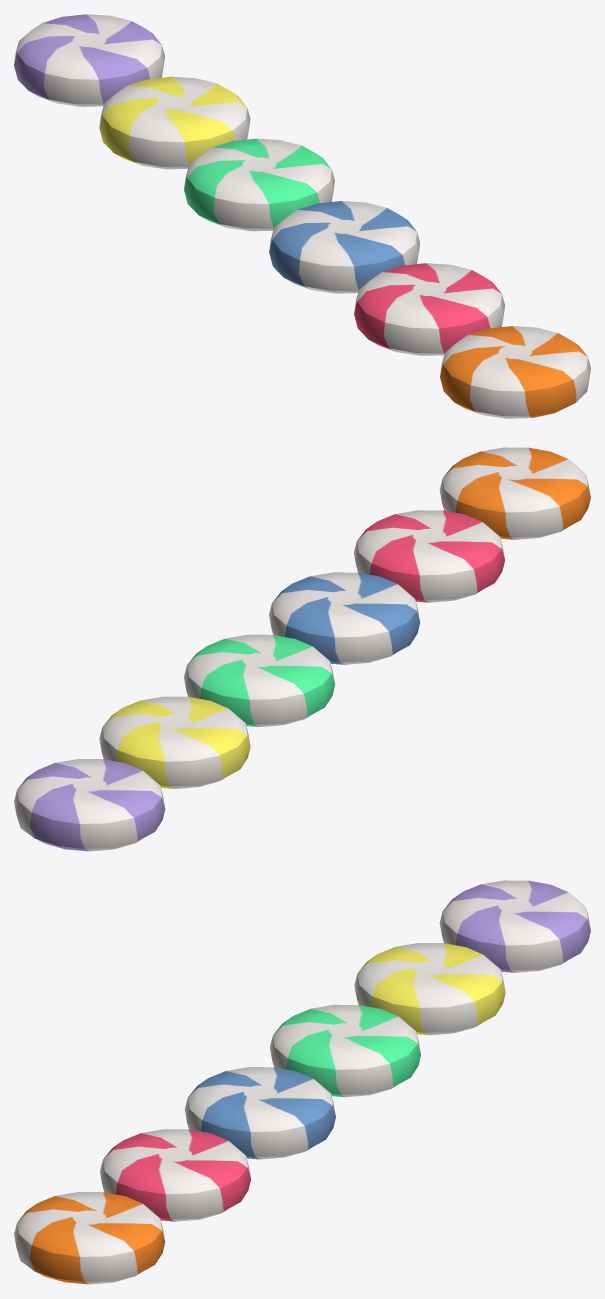
File: goods_sweets.gltf
3 renders of one model, top to bottom at view 1: azimuth 30°, elevation 25°; view 2: azimuth 150°, elevation 25°; view 3: azimuth 330°, elevation 25°, orthographic.
Parts seen in each view (by area): view 1: Candy_v1_geo, Candy_v2_geo, Candy_v6_geo, Candy_v4_geo, Candy_v3_geo, Candy_v5_geo; view 2: Candy_v6_geo, Candy_v1_geo, Candy_v5_geo, Candy_v3_geo, Candy_v2_geo, Candy_v4_geo; view 3: Candy_v1_geo, Candy_v2_geo, Candy_v6_geo, Candy_v4_geo, Candy_v3_geo, Candy_v5_geo.
Boxes of the visible parts, bbox=[...] form: Candy_v1_geo: bbox=[440, 326, 590, 418]; Candy_v2_geo: bbox=[354, 263, 504, 355]; Candy_v6_geo: bbox=[14, 14, 164, 106]; Candy_v4_geo: bbox=[184, 138, 334, 231]; Candy_v3_geo: bbox=[269, 201, 419, 293]; Candy_v5_geo: bbox=[99, 76, 250, 169]; Candy_v6_geo: bbox=[14, 759, 165, 851]; Candy_v1_geo: bbox=[439, 447, 590, 539]; Candy_v5_geo: bbox=[99, 696, 250, 788]; Candy_v3_geo: bbox=[269, 572, 420, 664]; Candy_v2_geo: bbox=[354, 510, 504, 602]; Candy_v4_geo: bbox=[184, 634, 334, 727]; Candy_v1_geo: bbox=[14, 1192, 165, 1284]; Candy_v2_geo: bbox=[100, 1129, 250, 1221]; Candy_v6_geo: bbox=[439, 880, 590, 972]; Candy_v4_geo: bbox=[270, 1004, 420, 1097]; Candy_v3_geo: bbox=[184, 1067, 335, 1159]; Candy_v5_geo: bbox=[354, 943, 505, 1035].
Size of the model in its own units: 0.1529 by 0.0483 by 1.01.
1 material, 1 textured.
